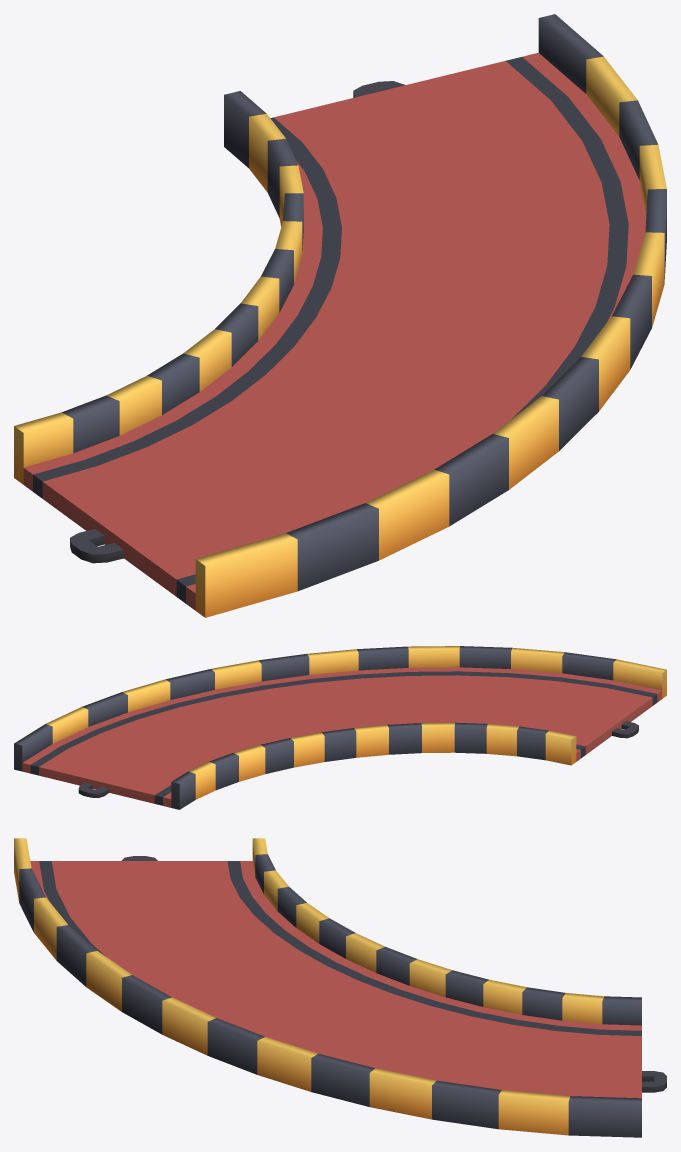
File: track-road-wide-corner-large.fbx
The picture shows the model from 3 angles, top to bottom: view 1: azimuth 30°, elevation 25°; view 2: azimuth 150°, elevation 25°; view 3: azimuth 270°, elevation 25°; orthographic projection. The views are drawn at different scales.
Parts seen in each view (by area): view 1: track-road-wide-corner-large; view 2: track-road-wide-corner-large; view 3: track-road-wide-corner-large.
Part boxes in pixels (x1,y1,x2,y2): track-road-wide-corner-large: (14, 14, 666, 617); track-road-wide-corner-large: (14, 646, 666, 809); track-road-wide-corner-large: (14, 838, 666, 1137).
Size of the model in its own units: 520 by 30 by 520.
